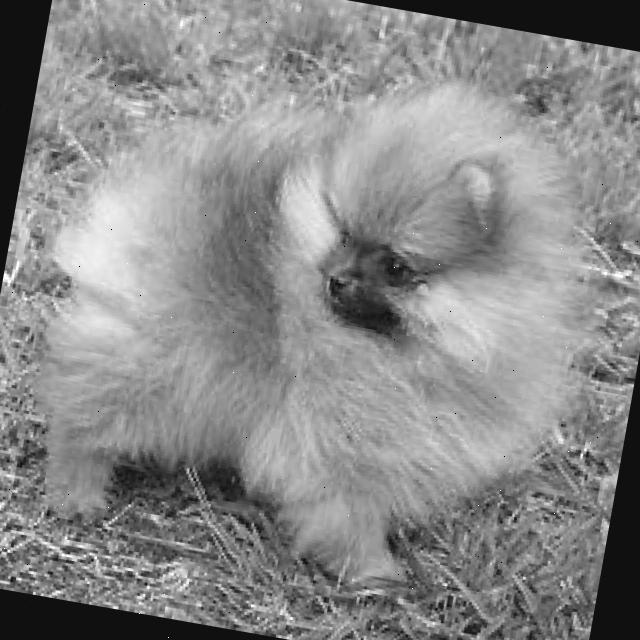pomeranian_dog: (270, 47, 610, 415)
